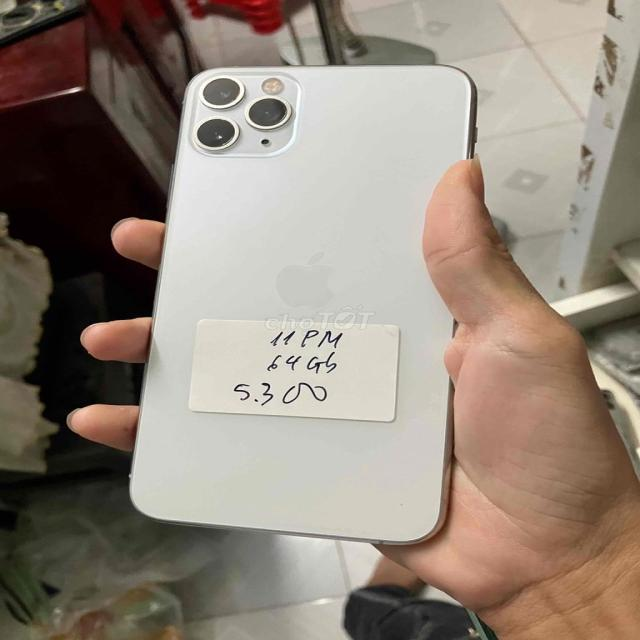gen_11: (122, 60, 485, 548)
